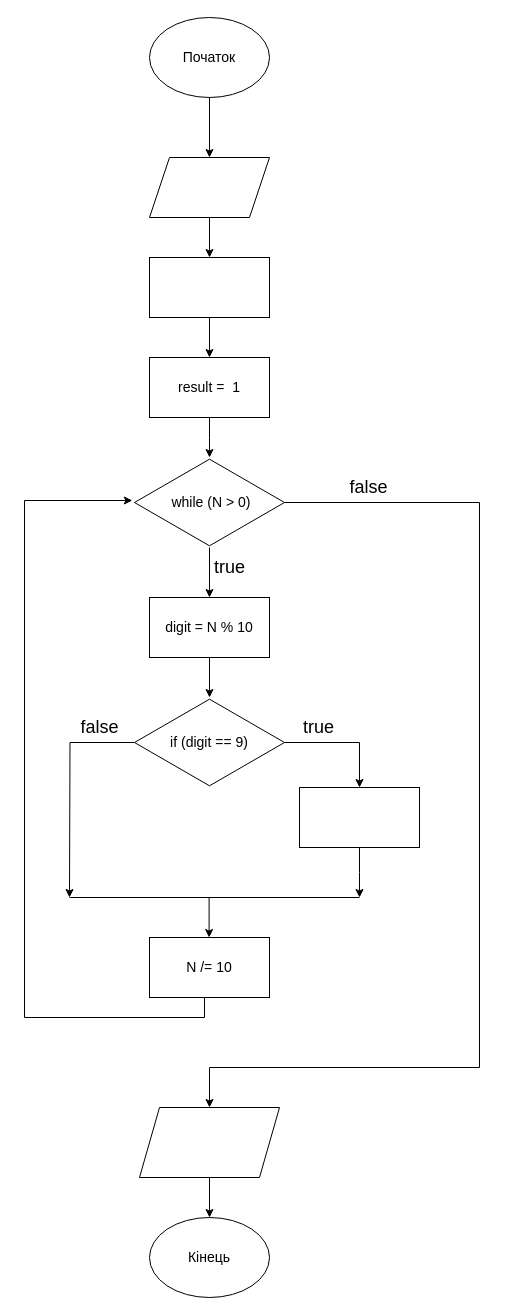
The diagram is 505 pixels wide and 1315 high, and some of its shapes have lost their labels. The shapes that lost their labels are listed below. From the top down, each one's centre as x and y in pixels, then its label:
the point at 209,187: Введення N
the point at 209,287: digit = 0
the point at 359,817: result *= digit
the point at 209,1142: Виведення result
